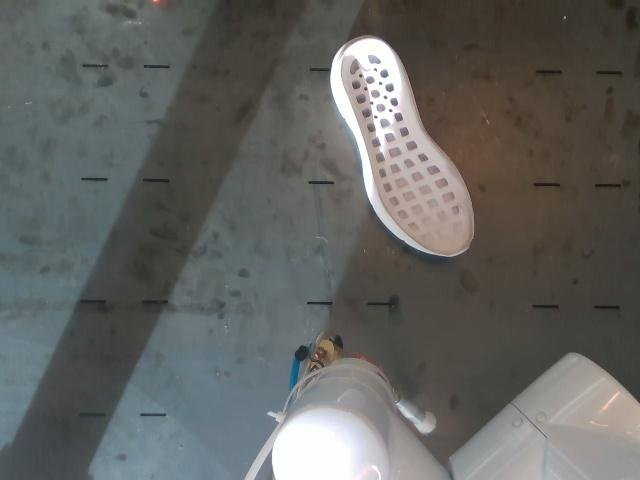shoes: (340, 40, 474, 256)
